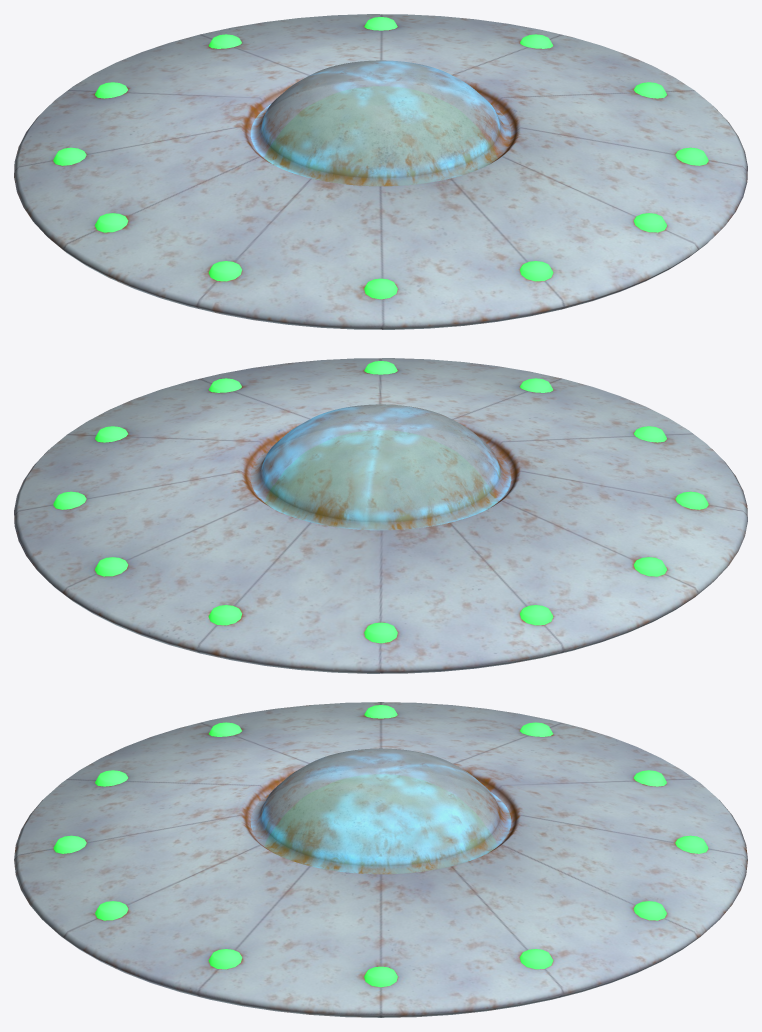
The model's file is ufo.glb.
3 views of the same model, one above another, from view 1: azimuth 30°, elevation 25°; view 2: azimuth 150°, elevation 25°; view 3: azimuth 270°, elevation 25° (orthographic).
Parts seen in each view (by area): view 1: ufo_low; view 2: ufo_low; view 3: ufo_low.
Part boxes in pixels (x1,y1,x2,y2): ufo_low: (14,14,747,329); ufo_low: (14,358,747,673); ufo_low: (14,702,747,1017).
Bounding box in the file's own units: 200 × 48.97 × 200.
Materials: 1 (1 with a texture image).
